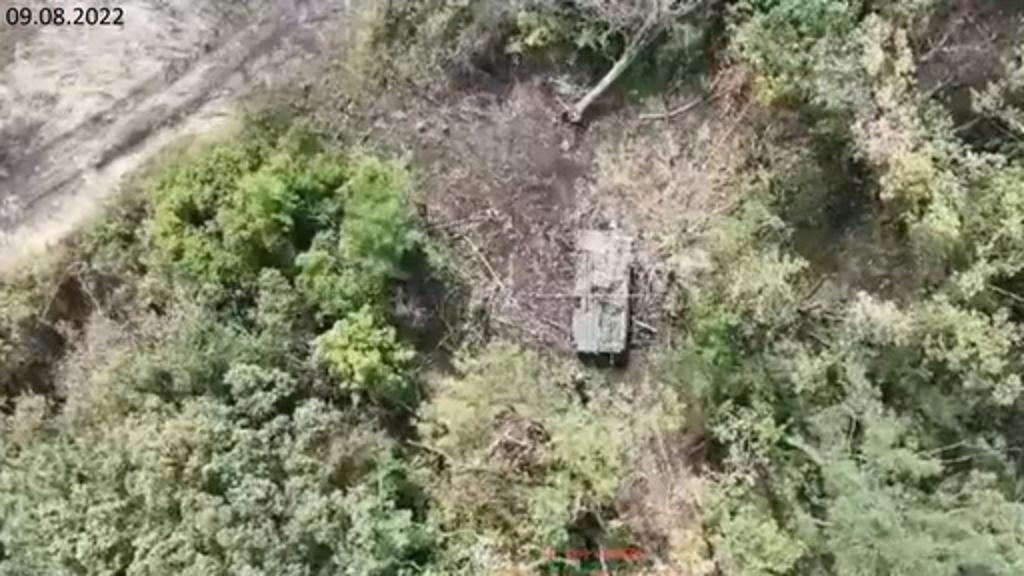APC-IFV: (550, 222, 634, 366)
